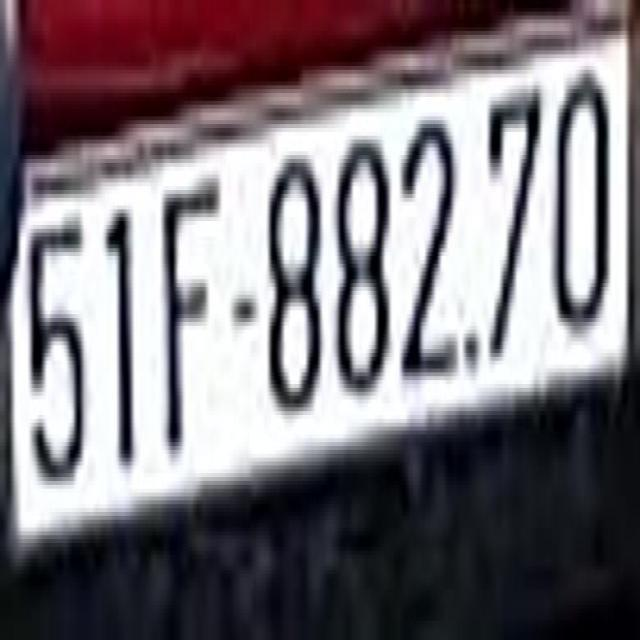0: (552, 61, 610, 342)
1: (105, 162, 142, 462)
2: (397, 97, 452, 384), (483, 78, 536, 364)
5: (28, 198, 87, 500)
8: (268, 128, 320, 419), (336, 136, 386, 412)
F: (161, 148, 216, 462)
